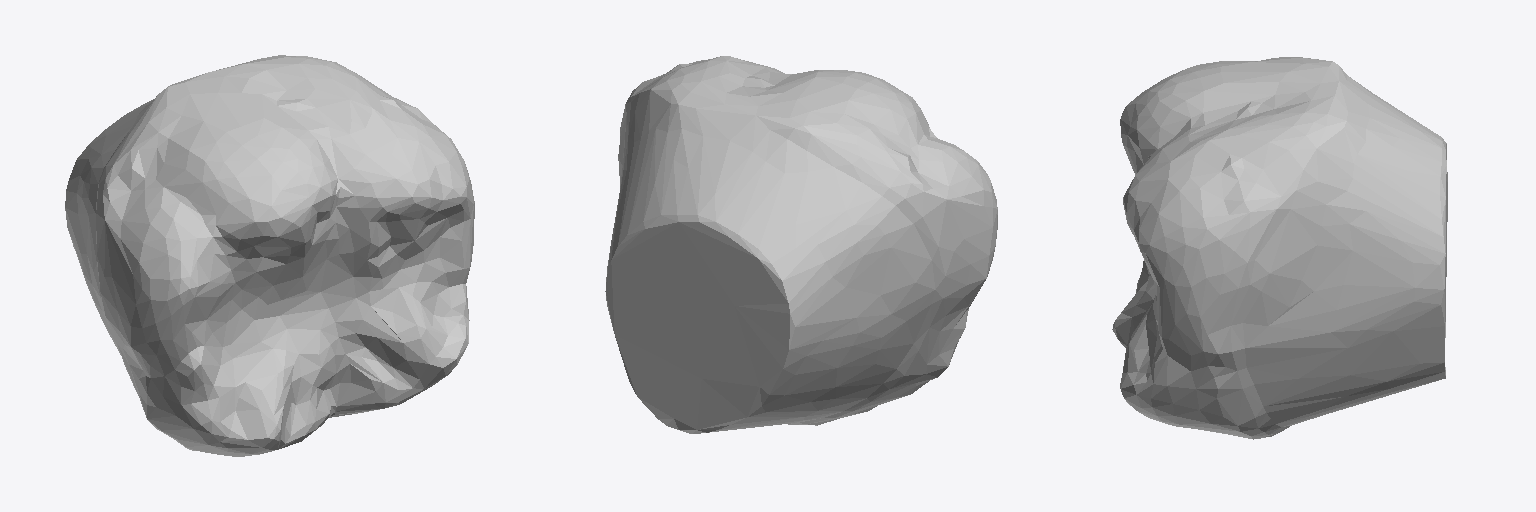
File: local_t36_7780_si.OBJ
3 renders of one model, left to right at view 1: azimuth 30°, elevation 25°; view 2: azimuth 150°, elevation 25°; view 3: azimuth 270°, elevation 25°, orthographic.
Parts seen in each view (by area): view 1: Group15265; view 2: Group15265; view 3: Group15265.
Part boxes in pixels (bbox=[...]): Group15265: bbox=[65, 55, 474, 456]; Group15265: bbox=[605, 56, 997, 433]; Group15265: bbox=[1112, 57, 1447, 439].
Bounding box in the file's own units: 11.83 × 11.08 × 9.91.